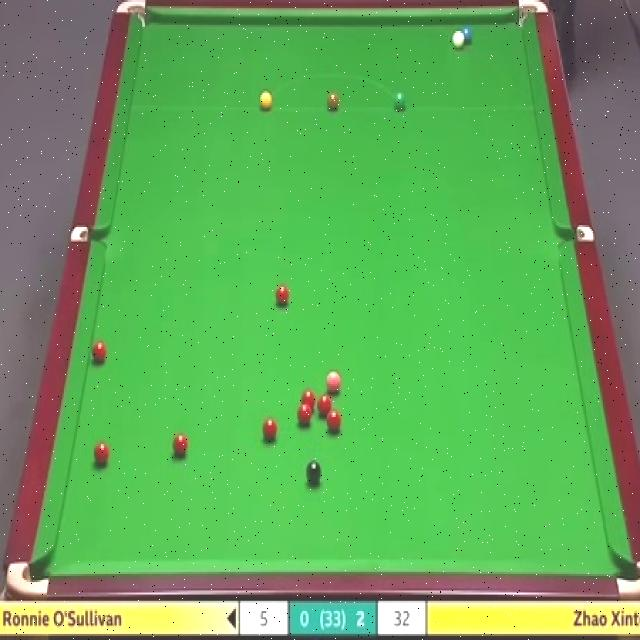black-ball: (305, 460, 323, 487)
blue-ball: (459, 21, 475, 46)
brown-ball: (326, 92, 341, 113)
green-ball: (393, 91, 407, 113)
pink-ball: (322, 370, 342, 396)
red-ball: (92, 440, 110, 469), (170, 432, 188, 458), (274, 282, 291, 308), (296, 403, 313, 428), (90, 340, 106, 364), (326, 409, 342, 432), (300, 389, 316, 411), (263, 417, 277, 442), (320, 392, 336, 412)
white-ball: (451, 30, 467, 49)
yellow-ball: (259, 90, 273, 112)
